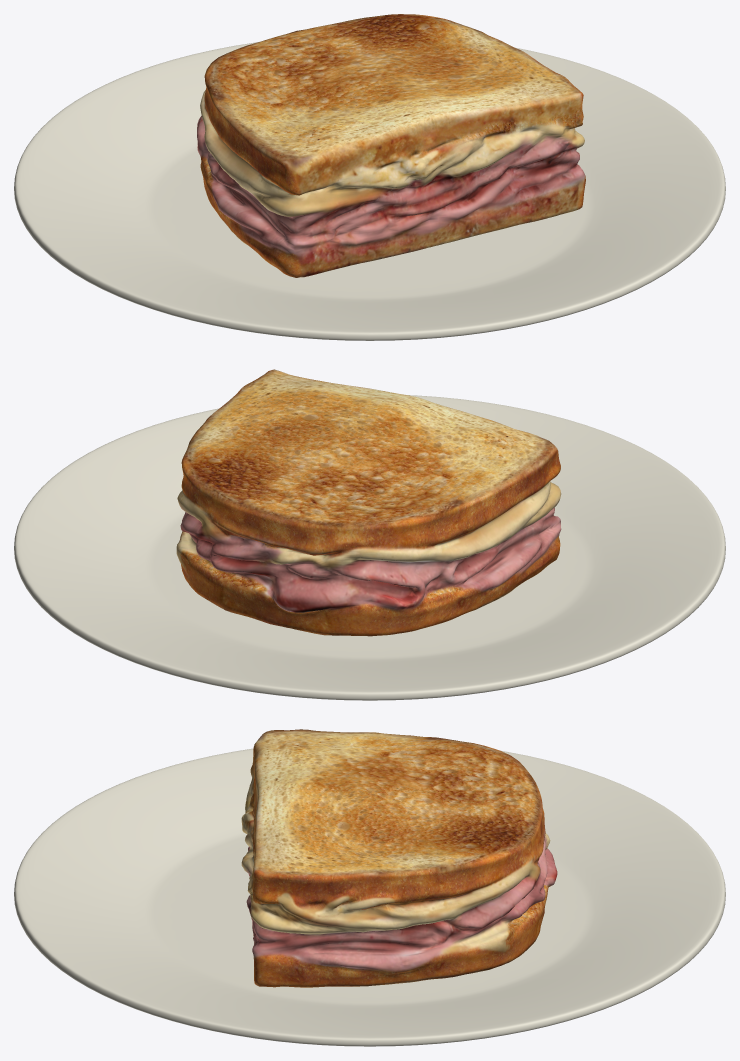
The model's file is sandwich.gltf.
The picture shows the model from 3 angles, top to bottom: view 1: azimuth 30°, elevation 25°; view 2: azimuth 150°, elevation 25°; view 3: azimuth 270°, elevation 25°; orthographic projection.
Parts seen in each view (by area): view 1: 13931_Reuben_Sandwich_on_Plate_v2_L1; view 2: 13931_Reuben_Sandwich_on_Plate_v2_L1; view 3: 13931_Reuben_Sandwich_on_Plate_v2_L1.
Part boxes in pixels (<box>): 13931_Reuben_Sandwich_on_Plate_v2_L1: <box>14,14,725,340</box>; 13931_Reuben_Sandwich_on_Plate_v2_L1: <box>14,369,725,700</box>; 13931_Reuben_Sandwich_on_Plate_v2_L1: <box>14,729,725,1046</box>.
Size of the model in its own units: 0.4687 by 0.1171 by 0.4687.
2 materials, 1 textured.
